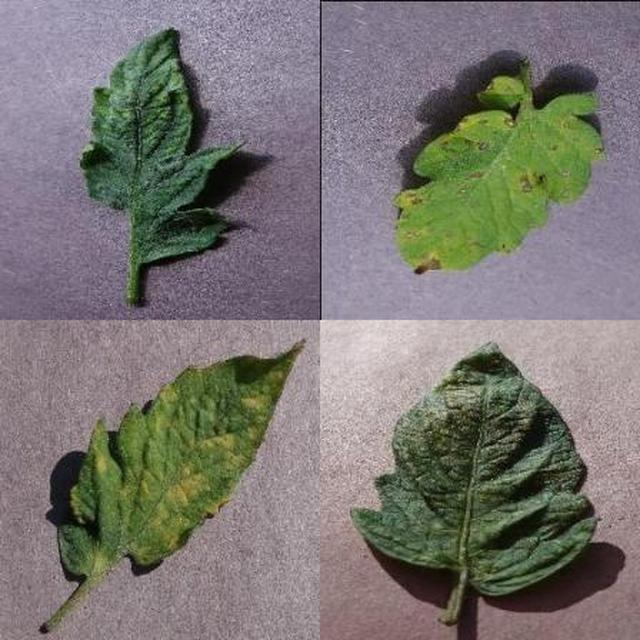Mosaic Virus Leaf: (235, 209, 640, 640)
